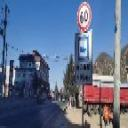speed_limit_60: (77, 1, 91, 33)
